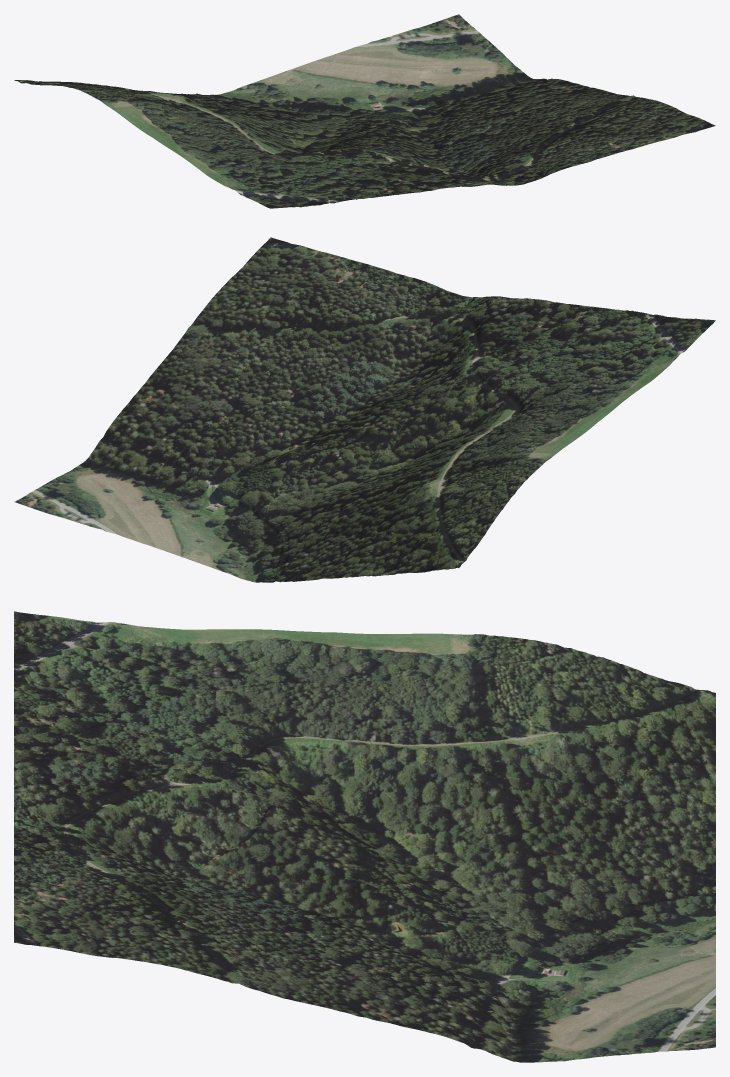
File: terrain_3_2.glb
3 views of the same model, one above another, from view 1: azimuth 30°, elevation 25°; view 2: azimuth 150°, elevation 25°; view 3: azimuth 270°, elevation 25° (orthographic). The views are drawn at different scales.
Parts seen in each view (by area): view 1: geometry_0; view 2: geometry_0; view 3: geometry_0.
Boxes of the visible parts, x1,y1,x2,y2 form: geometry_0: [14, 14, 715, 208]; geometry_0: [14, 237, 715, 582]; geometry_0: [14, 611, 715, 1062].
Bounding box in the file's own units: 499 × 133 × 499.
1 material, 1 textured.
